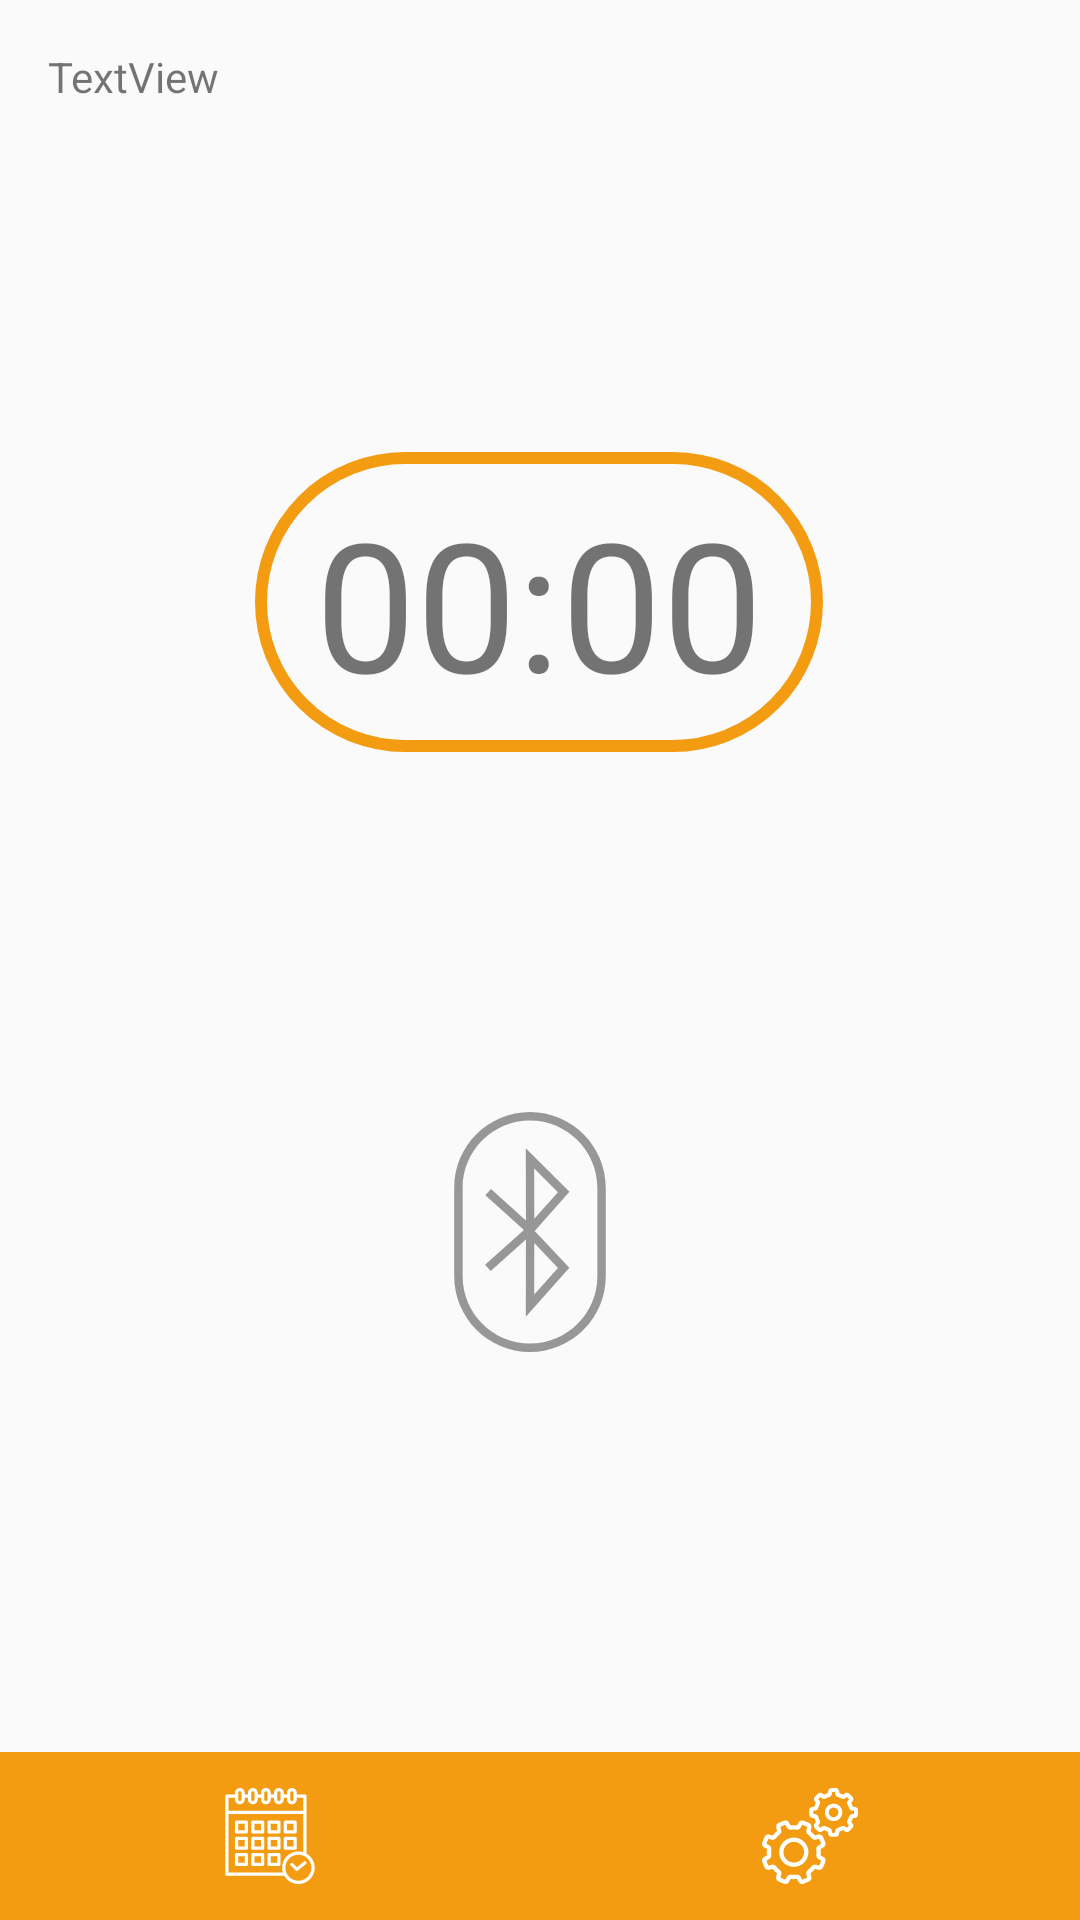

Icon bounding boxes for this 1080 x 1920 phone screenshot, format (x1=x1, y1=y1, x2=x2, y2=y2):
calendar: (x1=225, y1=1788, x2=315, y2=1884)
settings: (x1=762, y1=1788, x2=858, y2=1884)
